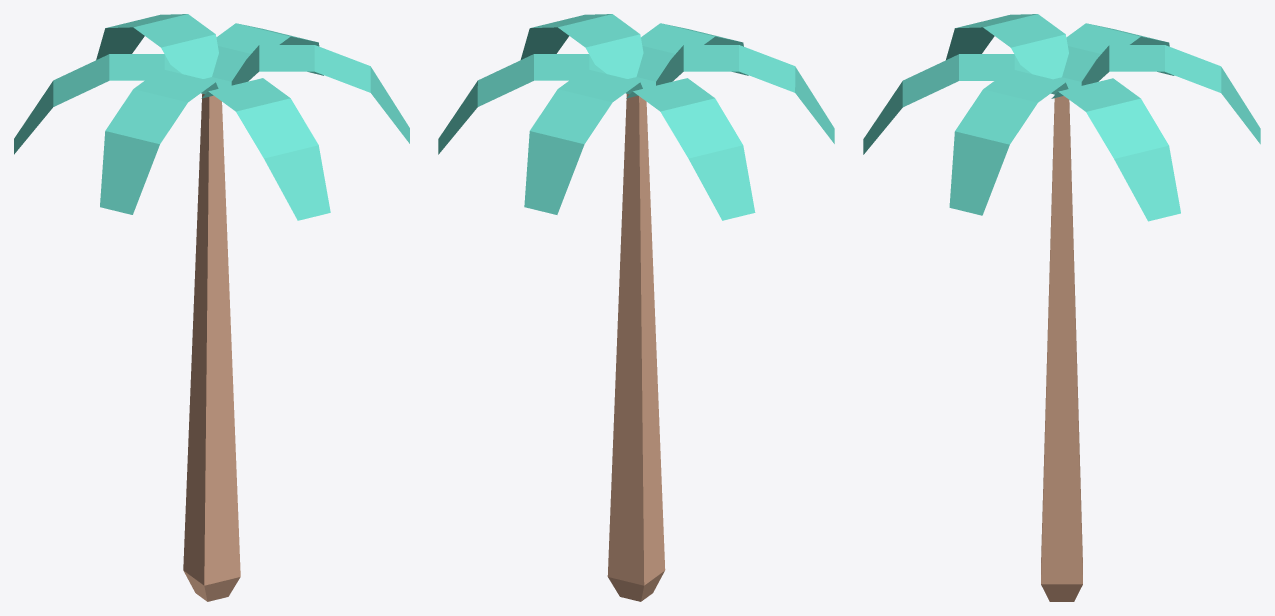
File: tree_palm.glb
3 views of the same model, side by side, from view 1: azimuth 30°, elevation 25°; view 2: azimuth 150°, elevation 25°; view 3: azimuth 270°, elevation 25° (orthographic).
Visible parts, largest first — view 1: tree_palm; view 2: tree_palm; view 3: tree_palm.
Boxes of the visible parts, x1,y1,x2,y2 form: tree_palm: (14, 14, 409, 601); tree_palm: (438, 14, 834, 601); tree_palm: (863, 14, 1260, 601).
Size of the model in its own units: 2.34 by 3.79 by 2.53.
